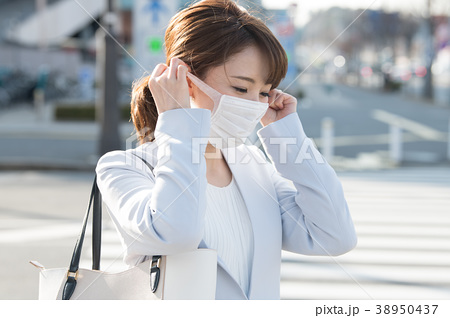mask: (211, 96, 277, 157)
